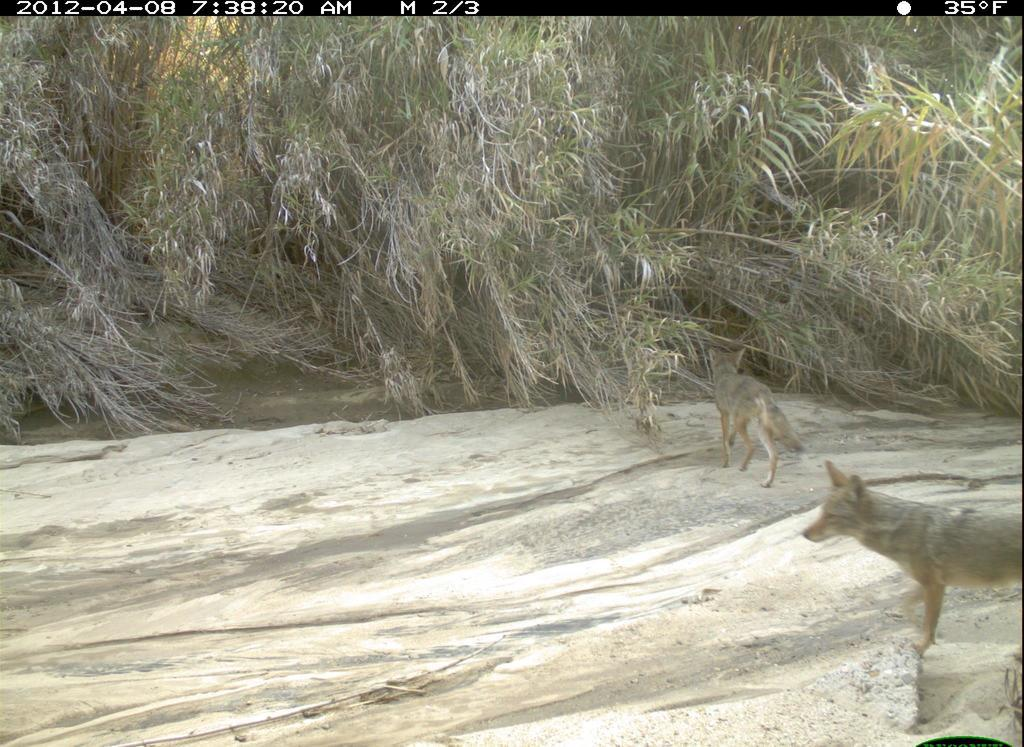coyote: (802, 460, 1023, 656), (688, 338, 794, 486)
